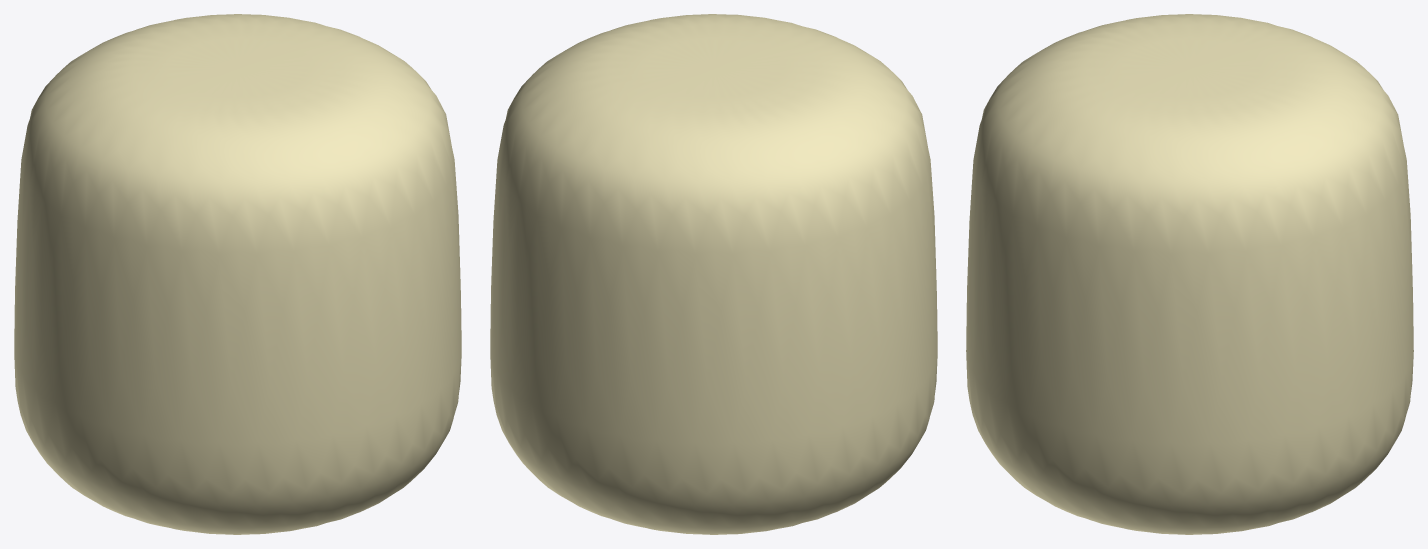
File: head.fbx
The picture shows the model from 3 angles, left to right: view 1: azimuth 30°, elevation 25°; view 2: azimuth 150°, elevation 25°; view 3: azimuth 270°, elevation 25°; orthographic projection.
Visible parts, largest first — view 1: robloxian2007_bg_torso_mediumred.009; view 2: robloxian2007_bg_torso_mediumred.009; view 3: robloxian2007_bg_torso_mediumred.009.
Part boxes in pixels (<box>): robloxian2007_bg_torso_mediumred.009: <box>14,14,461,534</box>; robloxian2007_bg_torso_mediumred.009: <box>490,14,937,534</box>; robloxian2007_bg_torso_mediumred.009: <box>966,14,1413,534</box>.
Bounding box in the file's own units: 3.92 × 3.97 × 3.92.
